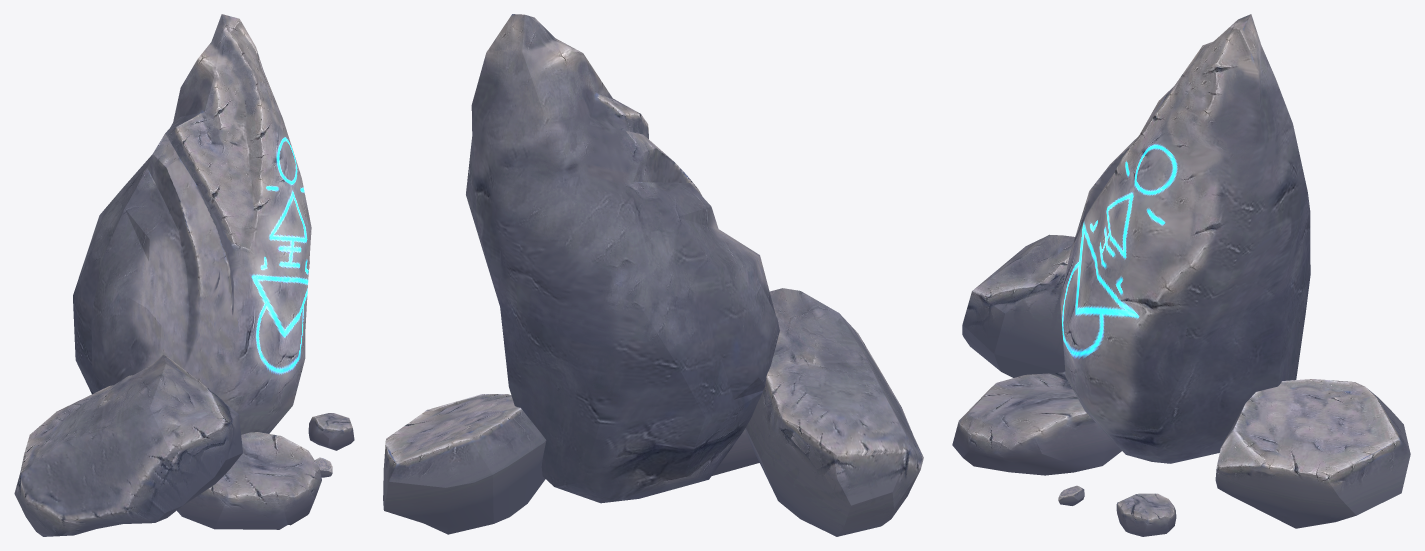
File: runestone_warcraft_2.glb
The picture shows the model from 3 angles, left to right: view 1: azimuth 30°, elevation 25°; view 2: azimuth 150°, elevation 25°; view 3: azimuth 270°, elevation 25°; orthographic projection. The views are drawn at different scales.
Visible parts, largest first — view 1: Cube.001_1, Cube_0, Cube.002_2, Cube.003_4; view 2: Cube.001_1, Cube_0, Sphere_3, Cube.002_2; view 3: Cube.001_1, Sphere_3, Cube.002_2, Cube_0, Cube.003_4.
Boxes of the visible parts, left/top/right/bottom form: Cube.001_1: left=73, top=14, right=311, bottom=434; Cube_0: left=14, top=354, right=242, bottom=536; Cube.002_2: left=177, top=432, right=321, bottom=529; Cube.003_4: left=308, top=413, right=354, bottom=450; Cube.001_1: left=466, top=14, right=779, bottom=503; Cube_0: left=745, top=288, right=923, bottom=536; Sphere_3: left=383, top=394, right=546, bottom=534; Cube.002_2: left=712, top=429, right=759, bottom=475; Cube.001_1: left=1060, top=14, right=1310, bottom=463; Sphere_3: left=1215, top=379, right=1410, bottom=528; Cube.002_2: left=952, top=371, right=1121, bottom=475; Cube_0: left=962, top=234, right=1074, bottom=377; Cube.003_4: left=1116, top=493, right=1176, bottom=536.
Size of the model in its own units: 4.13 by 4.79 by 4.03.
Materials: 1 (1 with a texture image).
